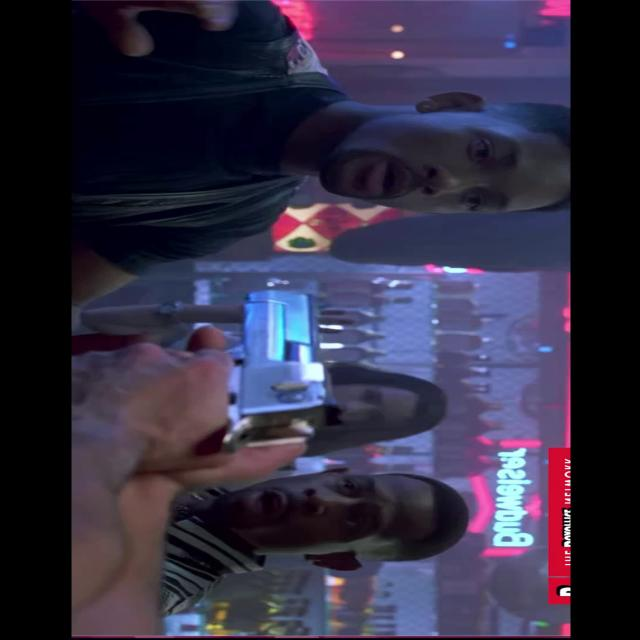weapons: (85, 282, 347, 459)
